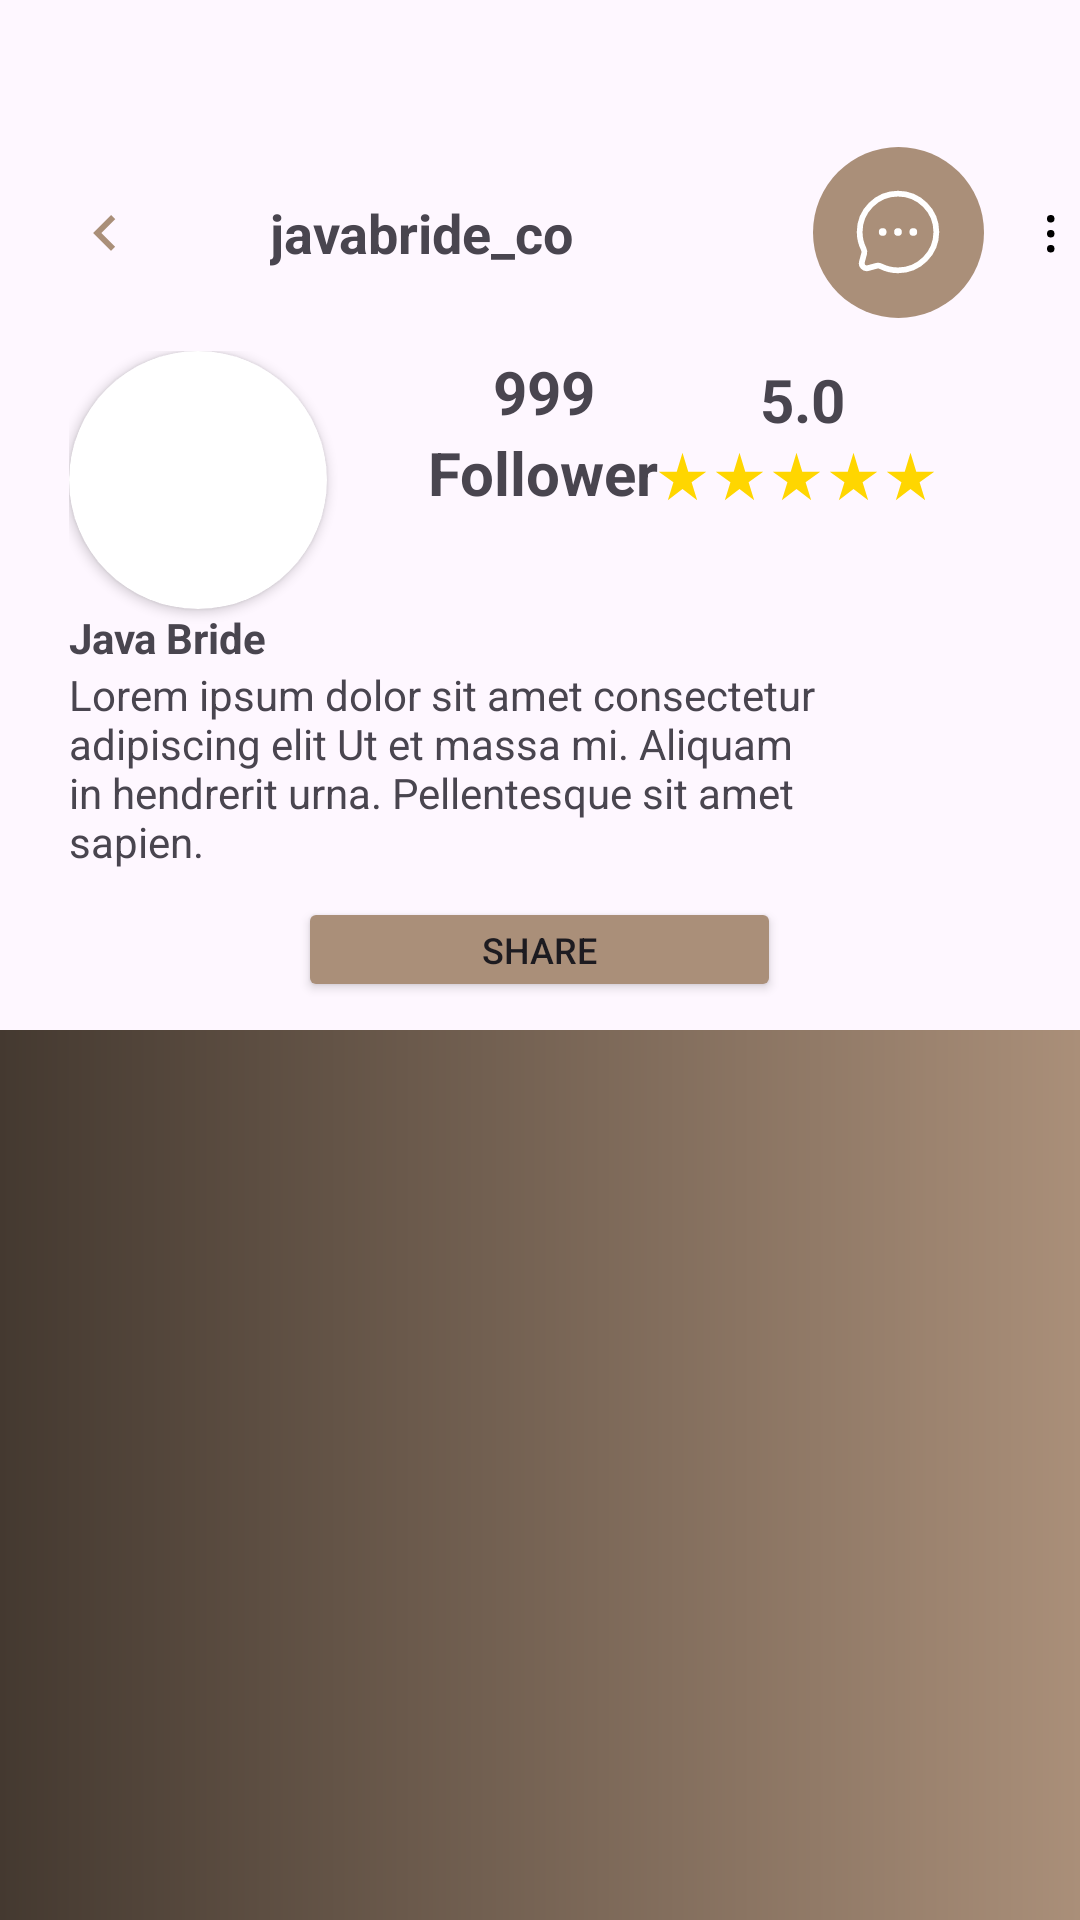

Named icons in this screenshot (1080 × 1920) and their bounding boxes, (x1, y1, x2, y2):
keyboard arrow left: (93, 215, 115, 251)
pepicons pencil dots: (1047, 215, 1055, 253)
star rate: (659, 453, 706, 500), (716, 453, 763, 500), (773, 453, 820, 500), (830, 453, 877, 500), (887, 453, 934, 500)
